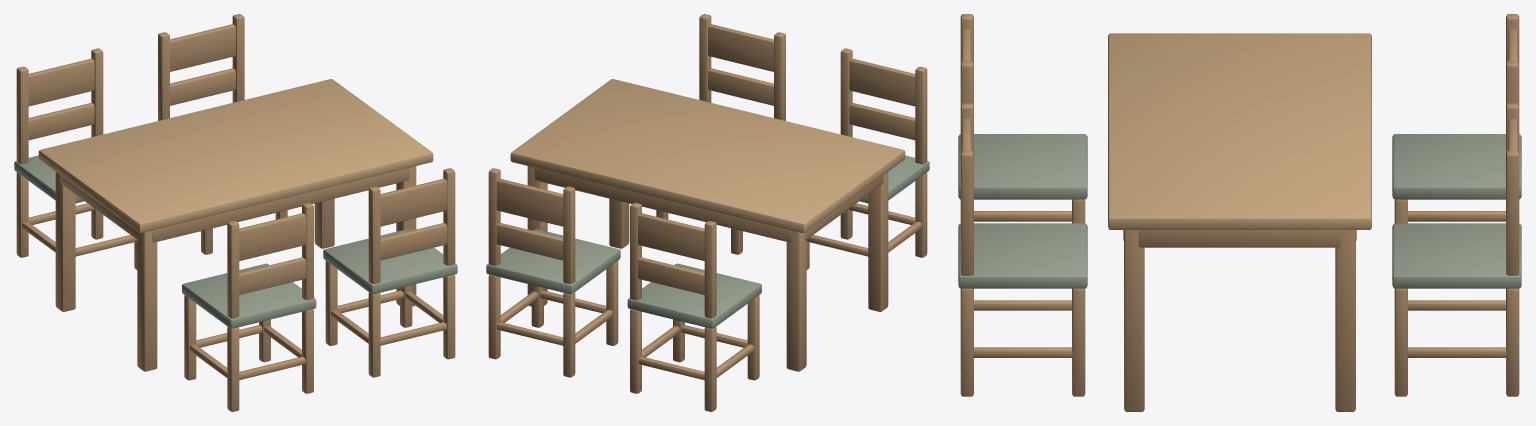
The model's file is th11_esstisch_stuehle.glb.
3 renders of one model, left to right at view 1: azimuth 30°, elevation 25°; view 2: azimuth 150°, elevation 25°; view 3: azimuth 270°, elevation 25°, orthographic. The views are drawn at different scales.
Parts seen in each view (by area): view 1: Cube, Cube.009, Cube.035, Cube.005, Cube.001, Cube.002, Cube.042, Cube.016, Cube.029, Cube.055, Cube.043, Cube.017 (+33 smaller); view 2: Cube, Cube.022, Cube.048, Cube.006, Cube.002, Cube.001, Cube.055, Cube.016, Cube.029, Cube.042, Cube.056, Cube.030 (+33 smaller); view 3: Cube, Cube.035, Cube.048, Cube.009, Cube.022, Cube.003, Cube.004, Cube.008, Cube.041, Cube.053, Cube.038, Cube.039 (+10 smaller).
Part boxes in pixels (x1=…): Cube: x1=38, y1=79, x2=433, y2=232; Cube.009: x1=182, y1=263, x2=316, y2=328; Cube.035: x1=323, y1=229, x2=457, y2=294; Cube.005: x1=152, y1=168, x2=409, y2=242; Cube.001: x1=137, y1=230, x2=157, y2=371; Cube.002: x1=55, y1=172, x2=75, y2=311; Cube.042: x1=380, y1=178, x2=447, y2=226; Cube.016: x1=239, y1=213, x2=305, y2=260; Cube.029: x1=28, y1=58, x2=94, y2=106; Cube.055: x1=170, y1=24, x2=235, y2=71; Cube.043: x1=380, y1=223, x2=447, y2=260; Cube.017: x1=239, y1=257, x2=305, y2=294; Cube: x1=510, y1=79, x2=905, y2=232; Cube.022: x1=627, y1=263, x2=761, y2=328; Cube.048: x1=486, y1=229, x2=620, y2=294; Cube.006: x1=534, y1=168, x2=791, y2=242; Cube.002: x1=786, y1=230, x2=806, y2=371; Cube.001: x1=868, y1=172, x2=888, y2=311; Cube.055: x1=496, y1=178, x2=563, y2=226; Cube.016: x1=849, y1=58, x2=915, y2=106; Cube.029: x1=638, y1=213, x2=704, y2=260; Cube.042: x1=708, y1=24, x2=773, y2=71; Cube.056: x1=496, y1=223, x2=563, y2=260; Cube.030: x1=638, y1=257, x2=704, y2=294; Cube: x1=1108, y1=33, x2=1371, y2=229; Cube.035: x1=958, y1=223, x2=1087, y2=288; Cube.048: x1=1392, y1=223, x2=1521, y2=288; Cube.009: x1=958, y1=134, x2=1087, y2=199; Cube.022: x1=1392, y1=134, x2=1521, y2=199; Cube.003: x1=1124, y1=230, x2=1144, y2=411; Cube.004: x1=1335, y1=230, x2=1355, y2=411; Cube.008: x1=1138, y1=230, x2=1341, y2=247; Cube.041: x1=960, y1=150, x2=973, y2=275; Cube.053: x1=1506, y1=150, x2=1519, y2=275; Cube.038: x1=960, y1=288, x2=973, y2=396; Cube.039: x1=1072, y1=288, x2=1085, y2=396.
Size of the model in its own units: 1.5 by 0.915 by 1.92.
